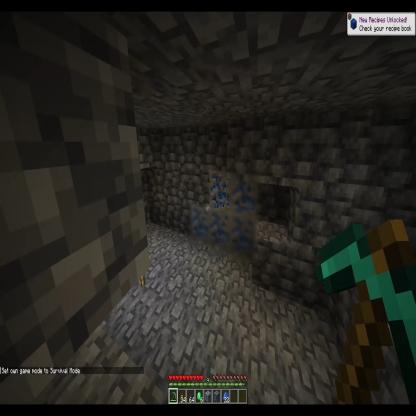lapis ore: (229, 210, 258, 263), (229, 169, 261, 212), (208, 208, 232, 256), (207, 168, 231, 214), (188, 204, 210, 244)
